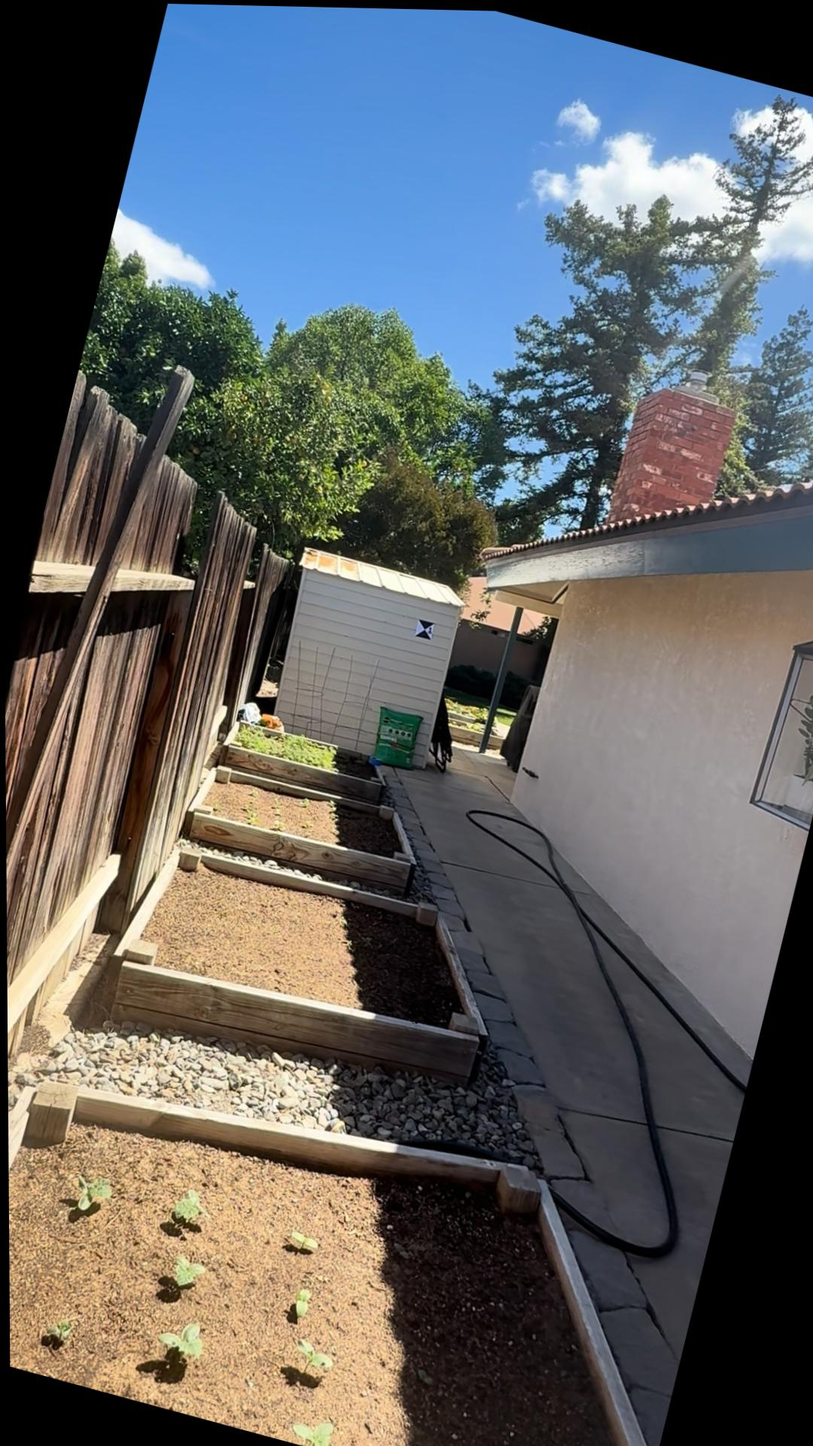target1: (414, 617, 439, 643)
